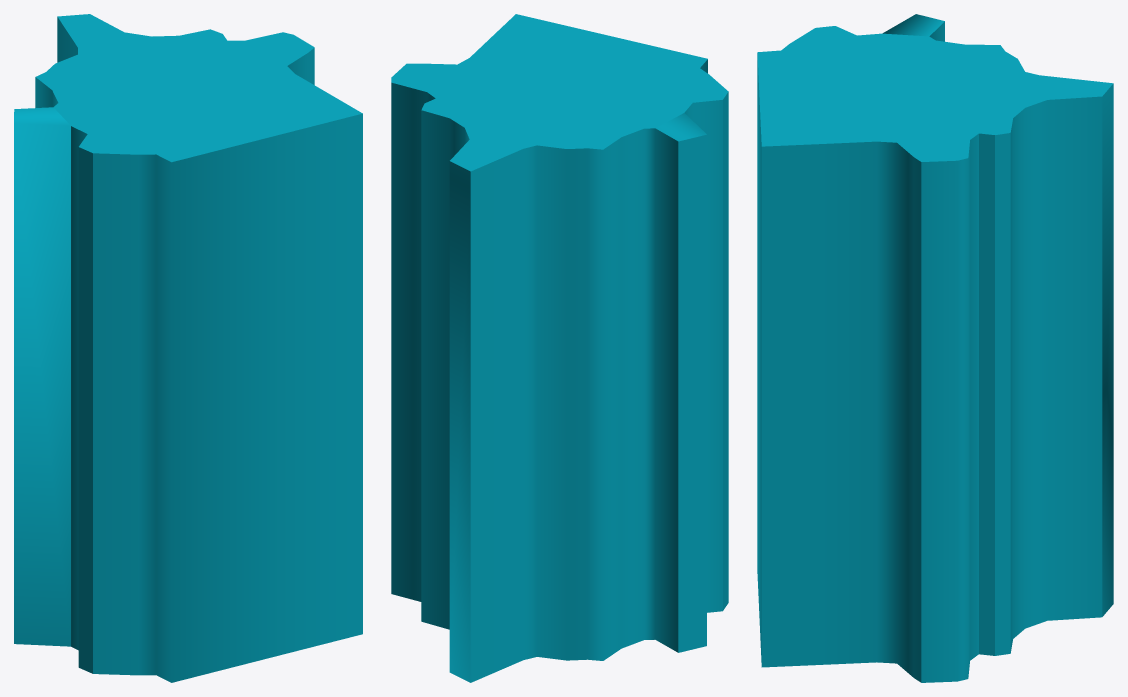
The model's file is env_st_salle_1_sol_1.fbx.
3 renders of one model, left to right at view 1: azimuth 30°, elevation 25°; view 2: azimuth 150°, elevation 25°; view 3: azimuth 270°, elevation 25°, orthographic.
Visible parts, largest first — view 1: Salle_1_Plateforme_1; view 2: Salle_1_Plateforme_1; view 3: Salle_1_Plateforme_1.
Boxes of the visible parts, x1,y1,x2,y2 form: Salle_1_Plateforme_1: (14,14,362,682); Salle_1_Plateforme_1: (391,14,728,682); Salle_1_Plateforme_1: (757,14,1113,682).
Bounding box in the file's own units: 2628 × 4308 × 2669.
